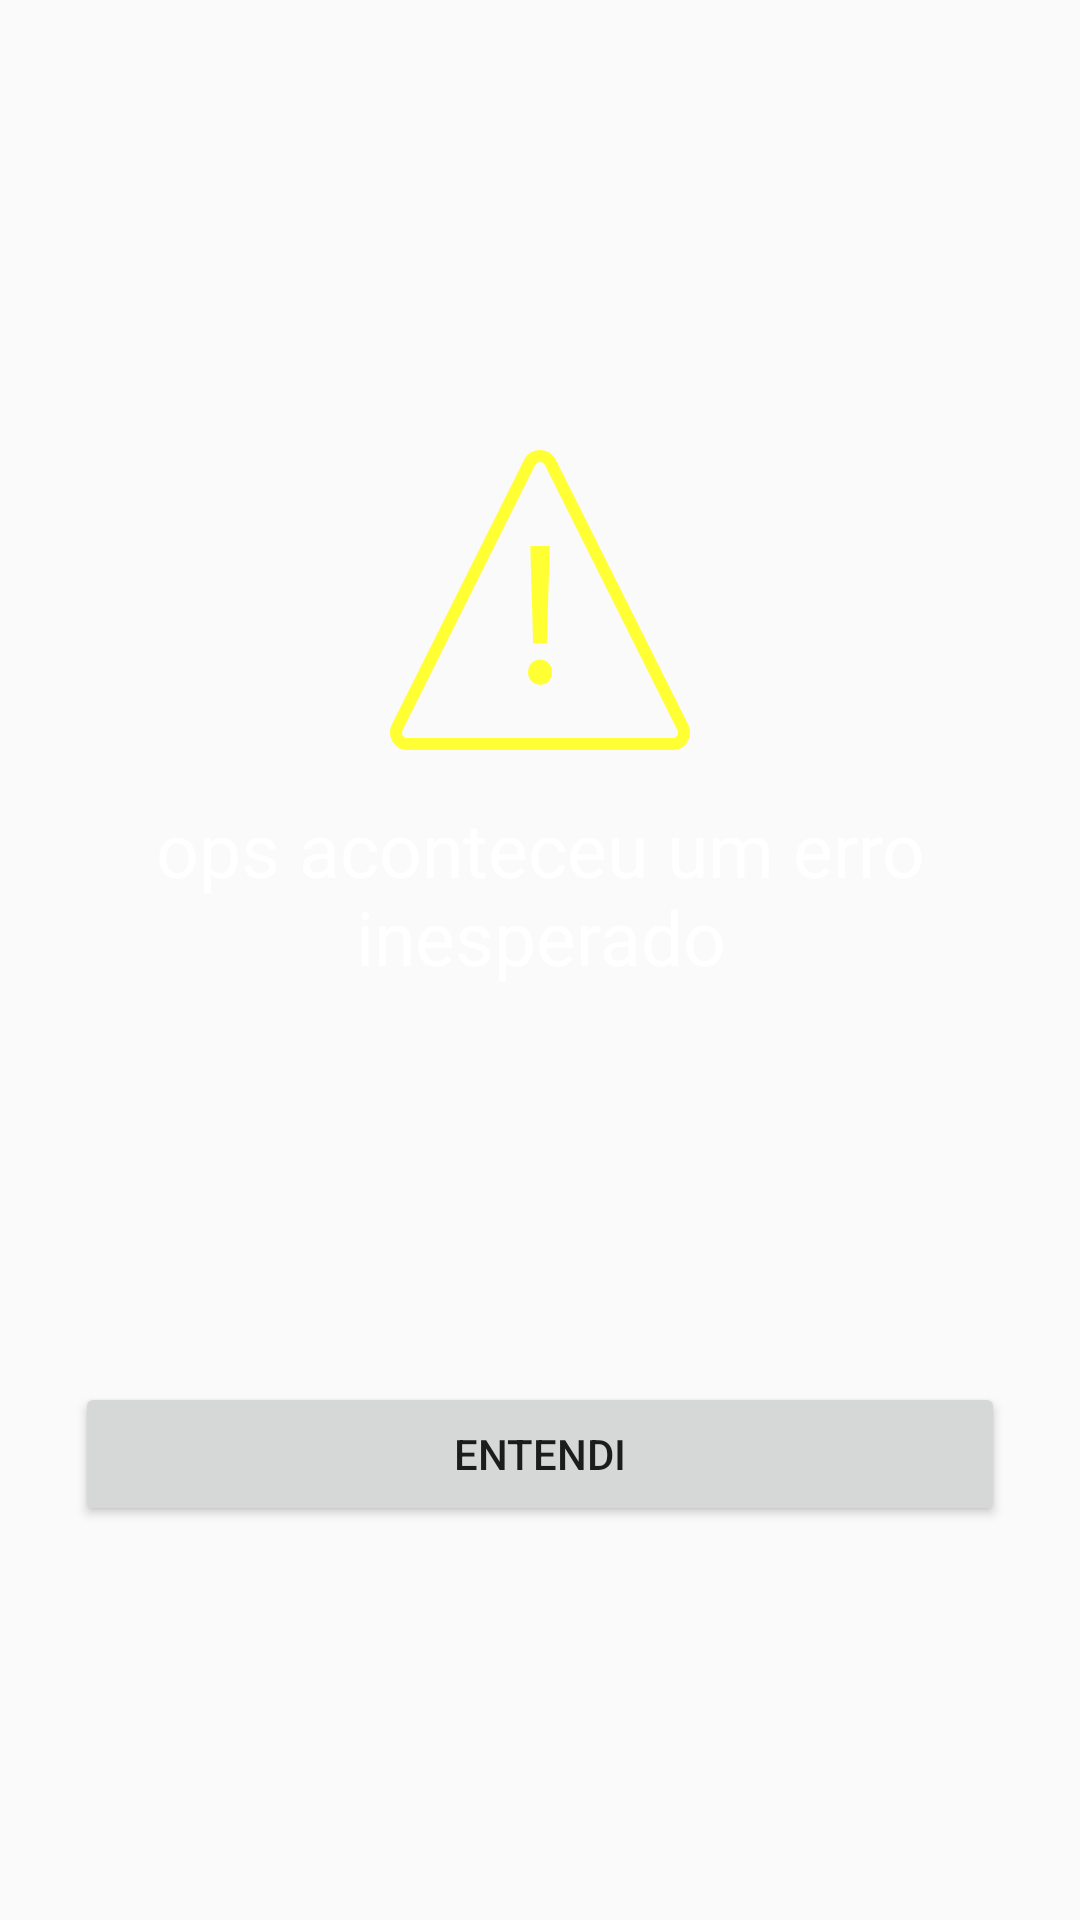

Screen size 1080x1920. Icon name, then its box in pixels as {"left": x1, "top": y1, "right": x2, "bottom": y2}:
alerta: {"left": 390, "top": 450, "right": 690, "bottom": 750}
